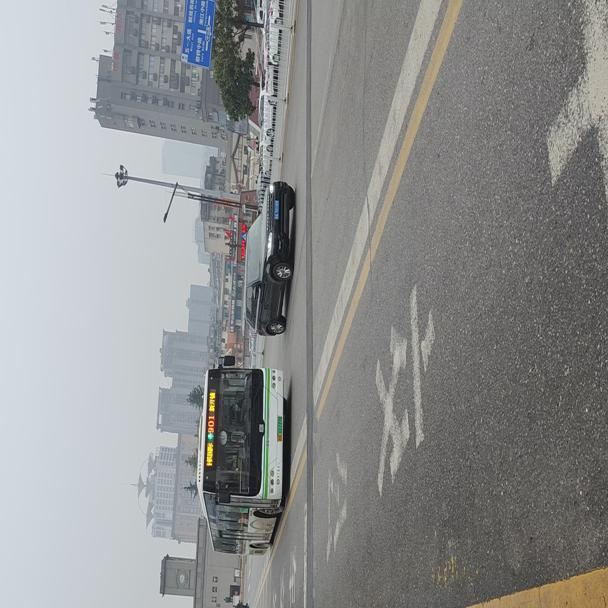bus: (195, 356, 283, 553)
screen: (202, 409, 215, 432)
